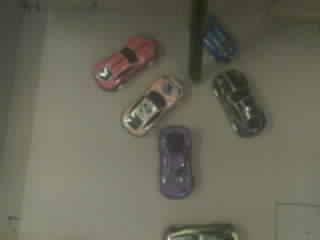Car: (122, 77, 182, 135), (213, 70, 264, 136), (97, 37, 154, 89), (160, 126, 192, 198), (204, 22, 236, 60), (166, 223, 238, 239)
